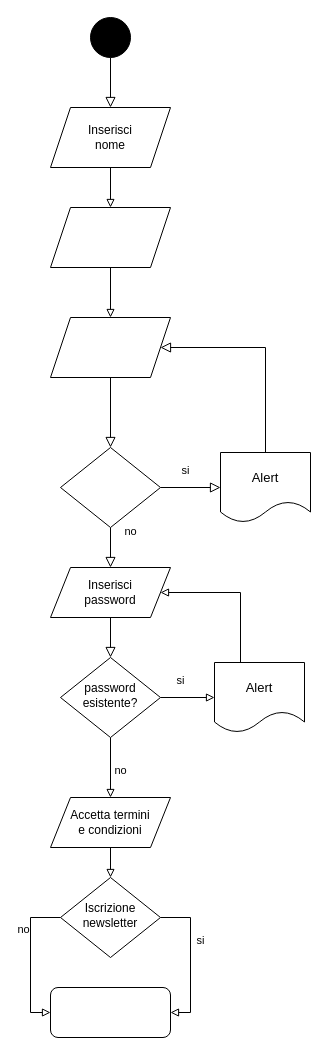
This 328x1055 diagram has some shape labels left out. Here are the shapes that lost their labels. From the top down, the centre of each, then its label:
the point at 110,237: Inserisci cognome
the point at 110,347: Inserisci email
the point at 110,487: email esistente?
the point at 110,1012: Effettua Registrazione
